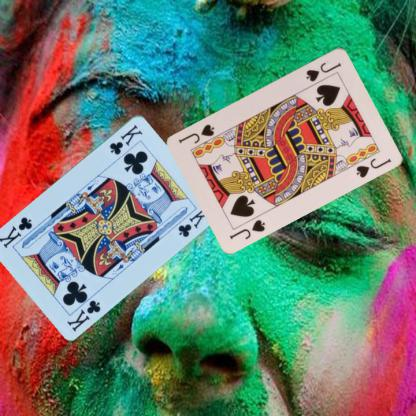Js: (303, 59, 344, 83), (226, 216, 267, 240)
Kc: (64, 297, 102, 333), (106, 121, 144, 156)
